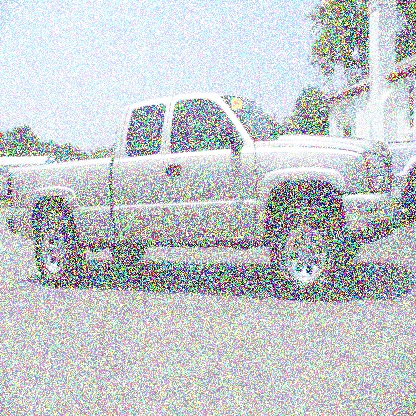Vehicle: (1, 83, 410, 315)
